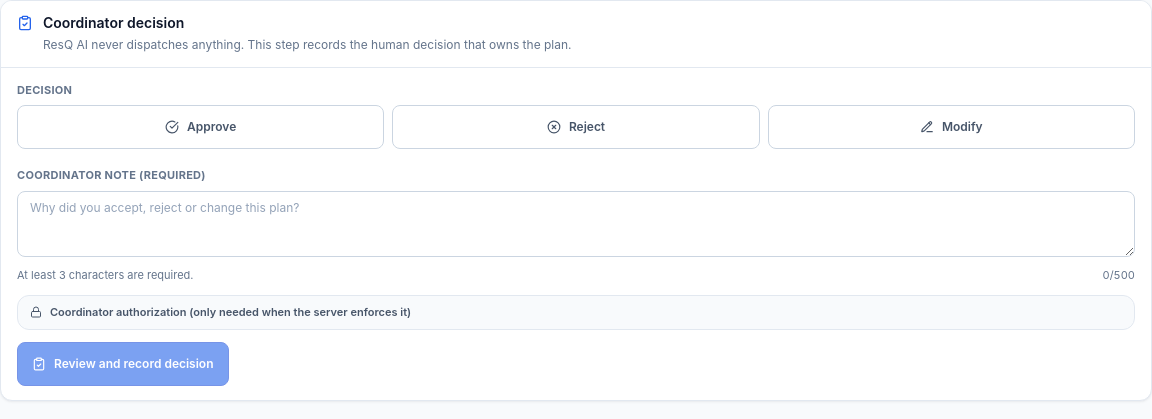
Scenario: Coordinator decision panel › requires a written note before a decision can be sent
Click the radio button labelled "Approve": click(201, 126) [17,104,384,148]
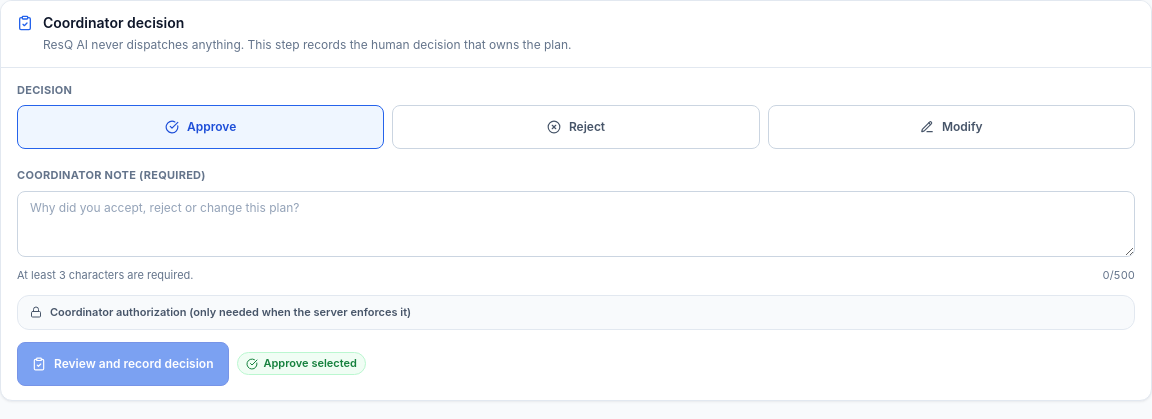
Check: the button "Review and record decision" is disabled, box [17,342,228,386]
In the text box labelled "Coordinator note (required)": (576, 224) [17,190,1135,256], type "Bridge closure verified."
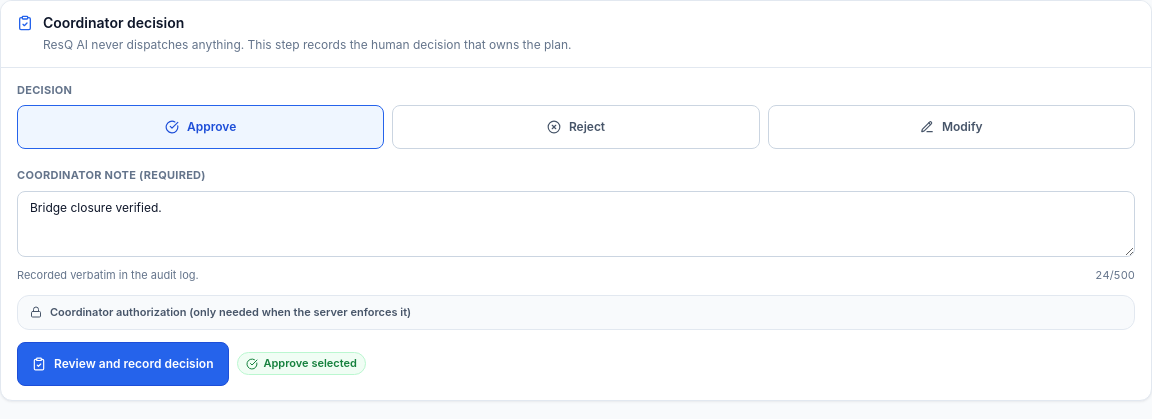
Check: the button "Review and record decision" is enabled, box [17,342,228,386]
